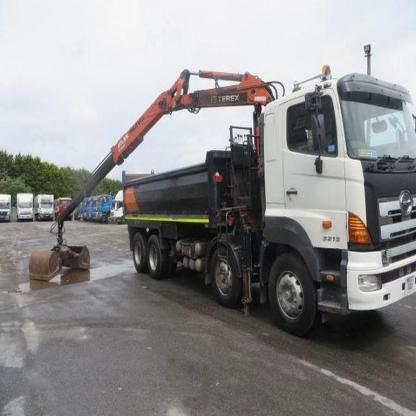dump_truck: (125, 59, 416, 345)
